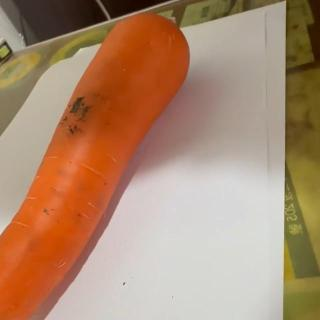carrot: (0, 11, 190, 320)
